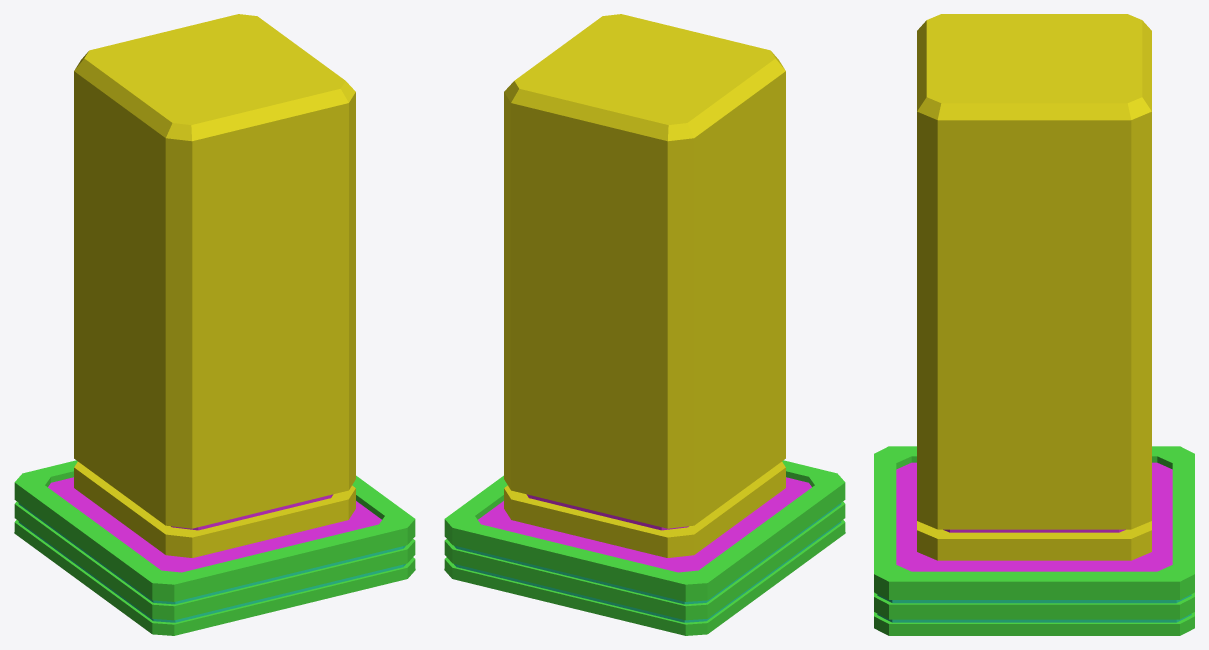
The model's file is Lamp_14.fbx.
The picture shows the model from 3 angles, left to right: view 1: azimuth 30°, elevation 25°; view 2: azimuth 150°, elevation 25°; view 3: azimuth 270°, elevation 25°; orthographic projection. The views are drawn at different scales.
Visible parts, largest first — view 1: Lamp_14; view 2: Lamp_14; view 3: Lamp_14.
Boxes of the visible parts, <box> form: Lamp_14: <box>14,14,415,635</box>; Lamp_14: <box>444,14,845,635</box>; Lamp_14: <box>874,14,1194,635</box>.
Bounding box in the file's own units: 66.89 × 117 × 66.89.
